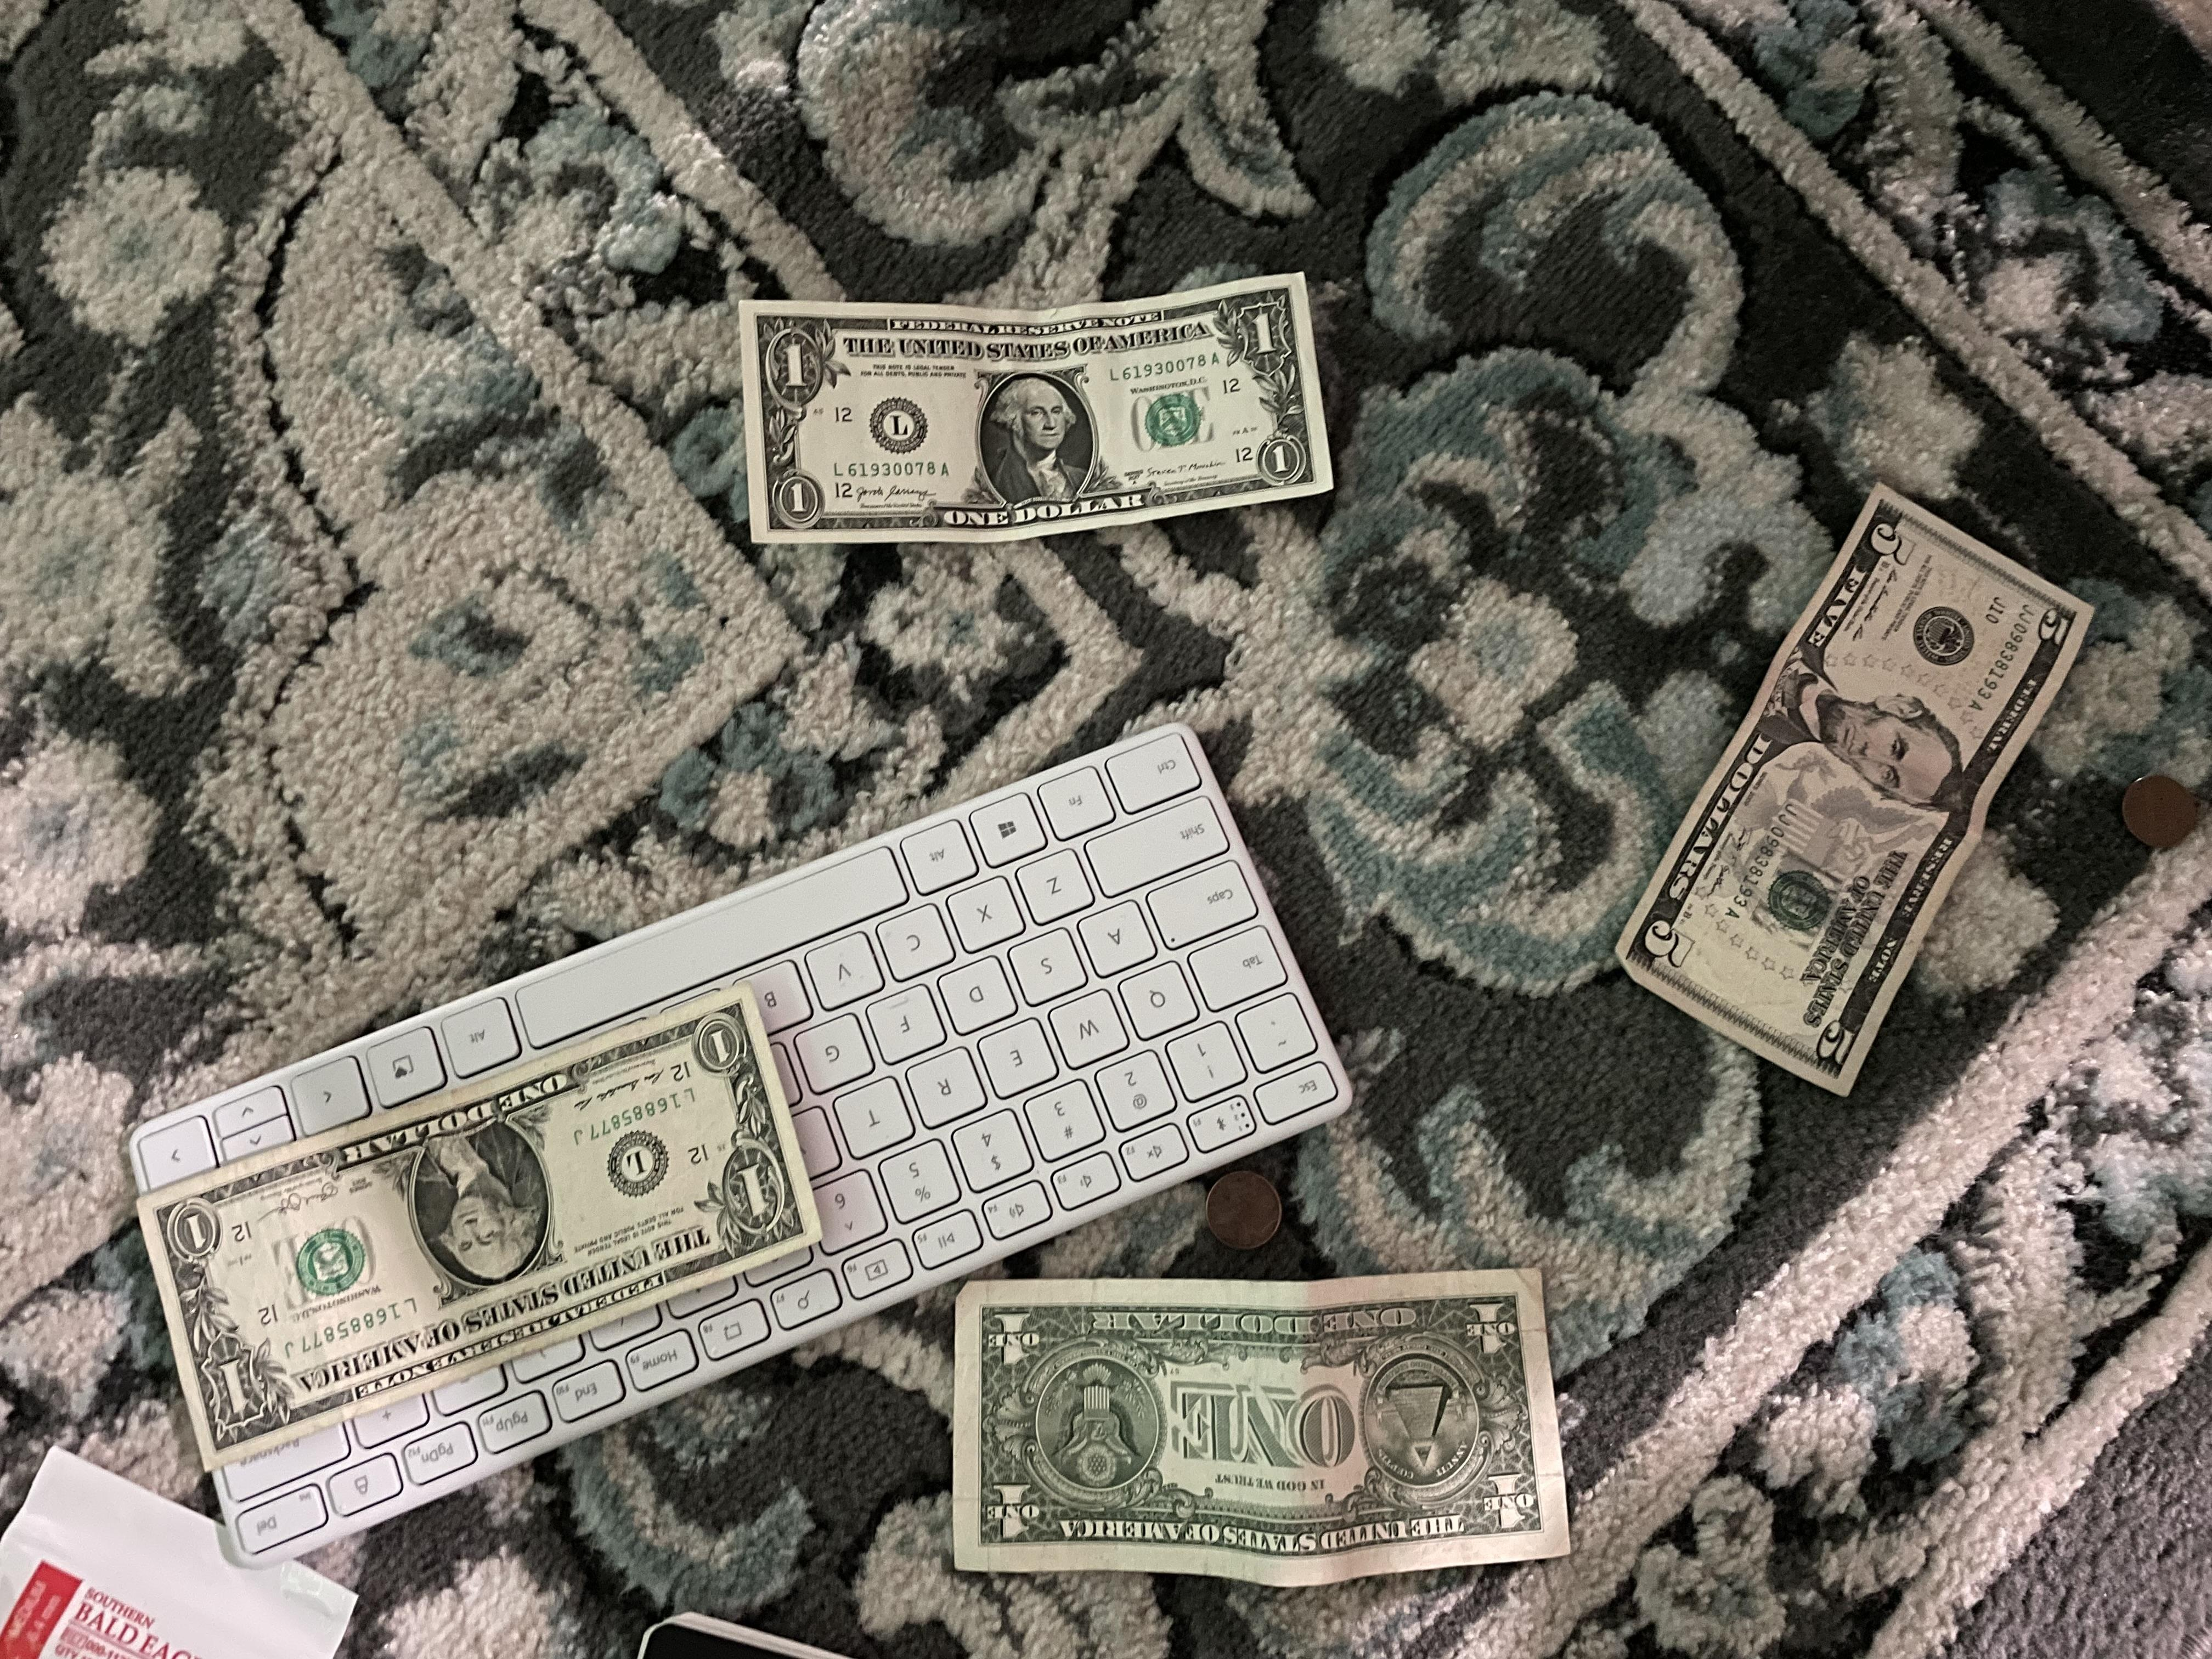FiveBill: (1609, 481, 2097, 1091)
OneBill: (129, 972, 829, 1439), (923, 1253, 1648, 1615), (730, 260, 1338, 554)
Penny: (1186, 1162, 1315, 1267), (2113, 767, 2193, 856)
